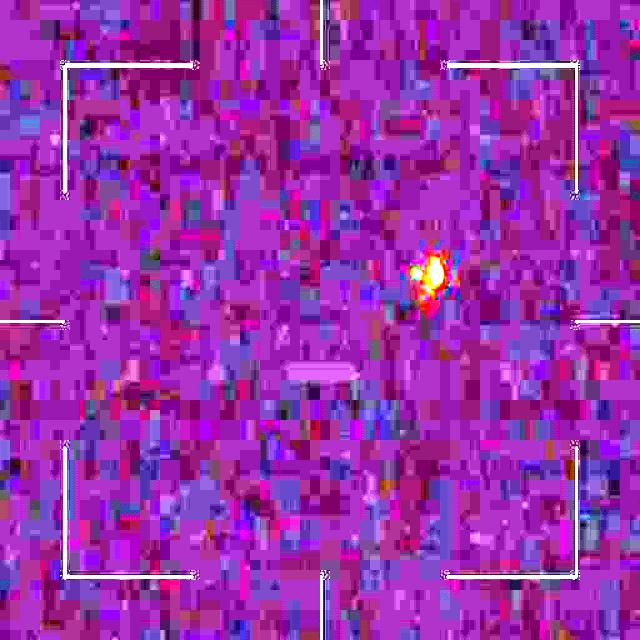bird: (411, 254, 442, 305)
